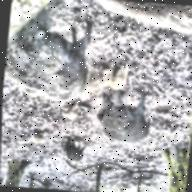boar: (87, 91, 168, 148)
